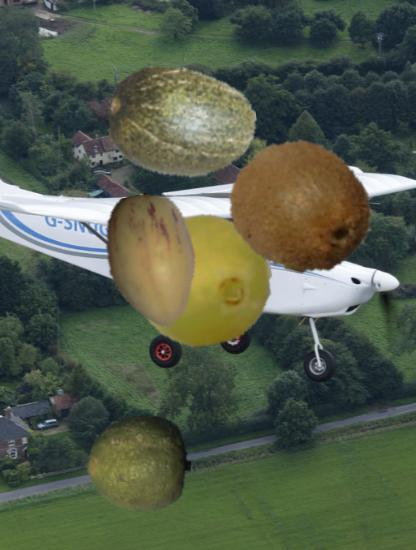Grape: (134, 212, 272, 350)
Kiwi: (228, 133, 376, 281)
Limes: (85, 409, 192, 516)
Melon: (107, 42, 256, 191)
Pepino: (83, 193, 221, 331)
